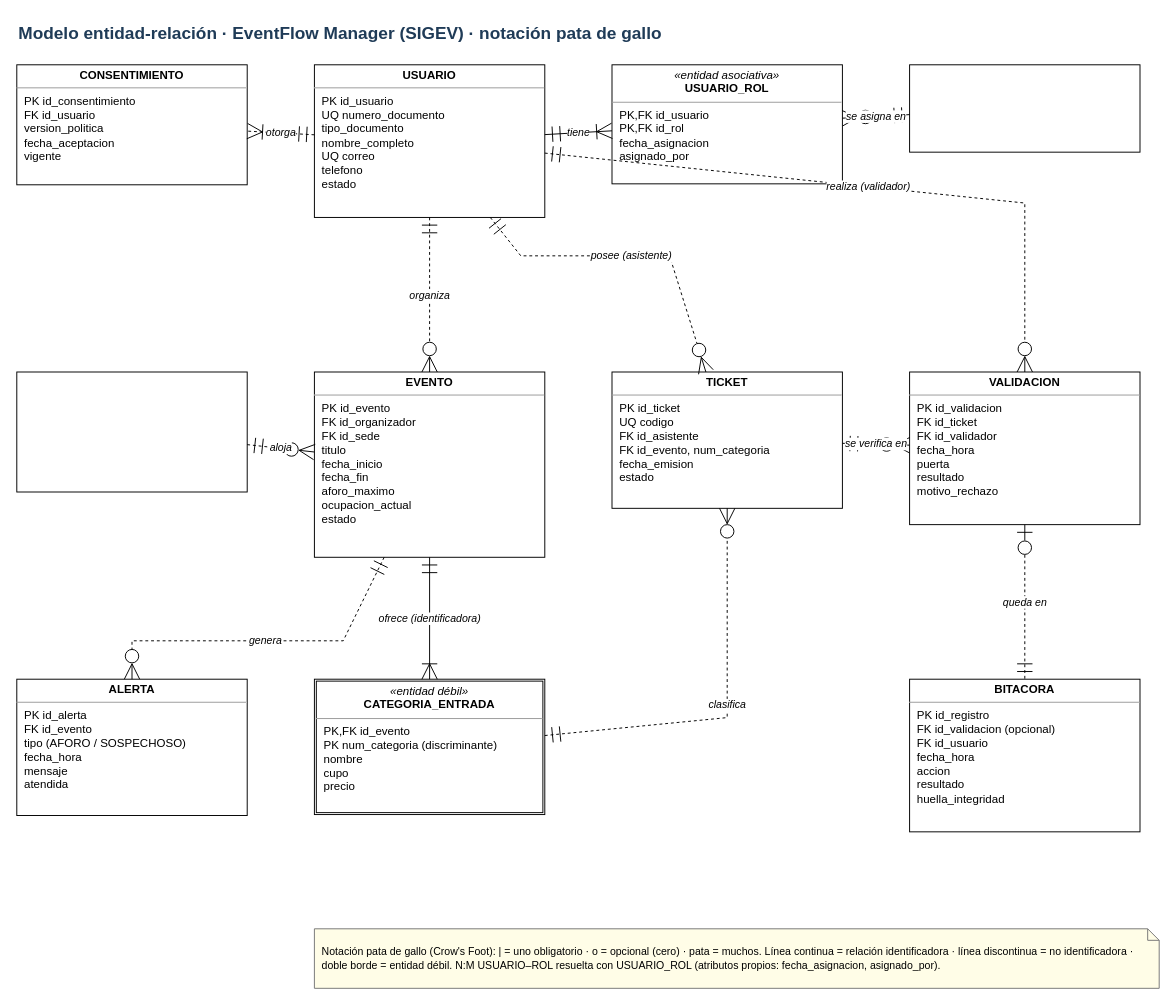
This 1176x1005 diagram has some shape labels left out. The centre of each missing label's shape, as x and y in pixels:
ROL PK id_rol UQ nombre descripcion: the point at 1024,108
SEDE PK id_sede nombre direccion ciudad capacidad_fisica: the point at 131,431
